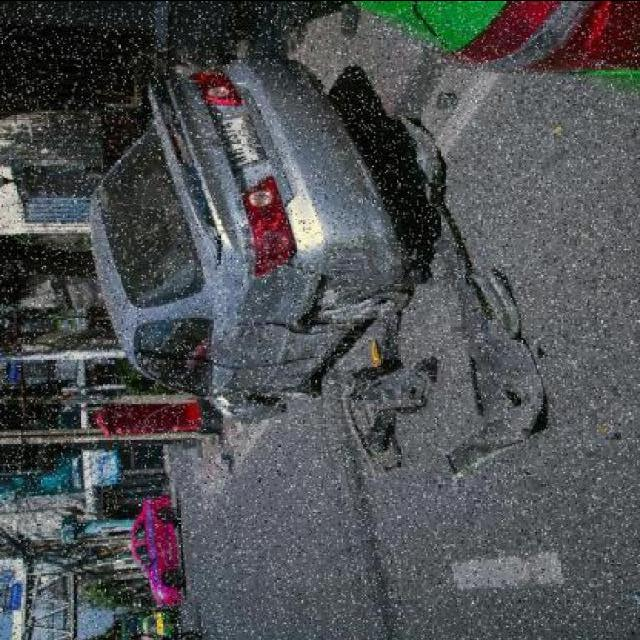doorouter-dent: (213, 322, 336, 364), (213, 361, 312, 393)
quaterpanel-dent: (222, 240, 328, 320)
rear-bumper-dent: (311, 198, 415, 312)
